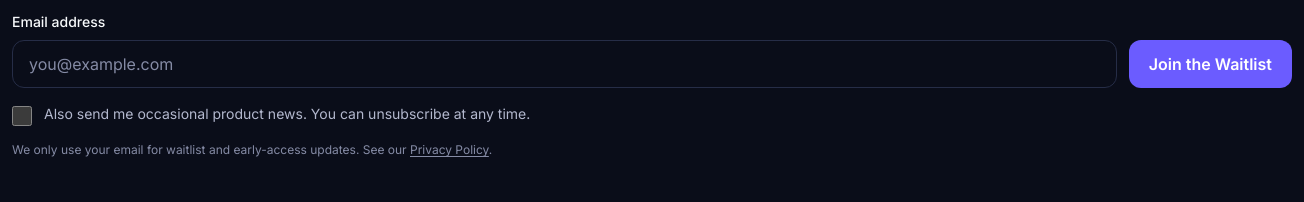
Test: WaitlistForm › shows the server error and keeps the form when persistence fails
The image size is (1304, 202).
Type "a@example.com" into the field labelled "Email address".
click(564, 64); type("a@example.com")  # box [12,40,1117,88]
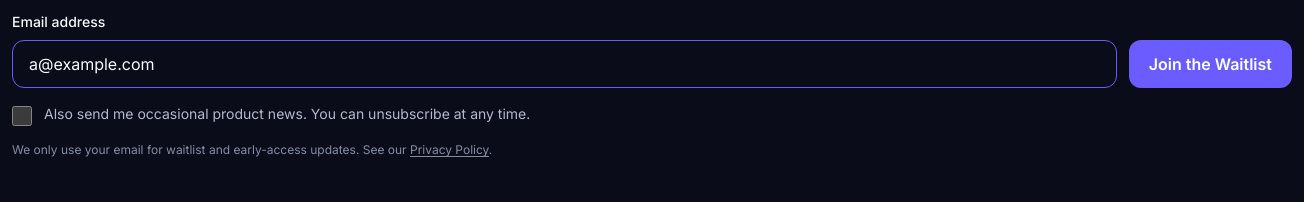
Click the button "Join the Waitlist".
click(1210, 64)  # box [1129,40,1292,88]
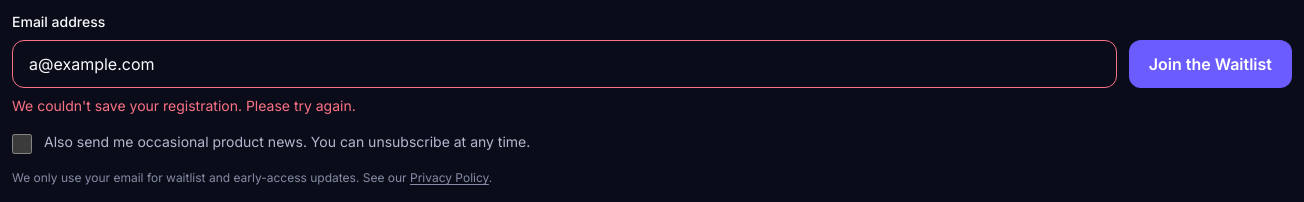
Expected: the message shows "couldn't save", [12,97,356,114]
